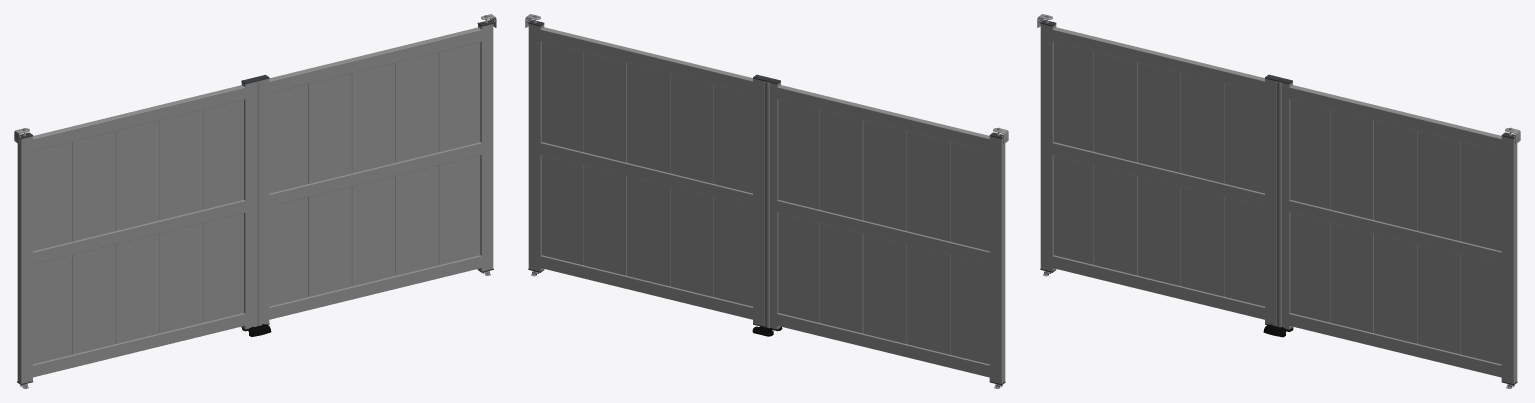
3 renders of one model, left to right at view 1: azimuth 30°, elevation 25°; view 2: azimuth 150°, elevation 25°; view 3: azimuth 330°, elevation 25°, orthographic.
Visible parts, largest first — view 1: Line030, Line025, Line028, Line023, Line029, Line024, Line031, Line026, Line027, Line022, Shape107412643, Shape107412740 (+9 smaller); view 2: Line023, Line025, Line028, Line029, Line030, Line024, Line031, Line026, Line022, Line027, Shape107412643, Shape107412740 (+9 smaller); view 3: Line023, Line025, Line030, Line028, Line029, Line024, Line022, Line027, Line031, Line026, Shape107412740, Shape107412643 (+9 smaller).
Boxes of the visible parts, x1,y1,x2,y2 form: Line030: (395, 52, 438, 275); Line025: (159, 110, 202, 333); Line028: (308, 73, 351, 296); Line023: (72, 131, 115, 354); Line029: (352, 63, 395, 286); Line024: (116, 120, 159, 343); Line031: (439, 42, 480, 264); Line026: (203, 100, 243, 322); Line027: (269, 84, 308, 306); Line022: (33, 142, 72, 364); Shape107412643: (17, 136, 32, 383); Shape107412740: (478, 24, 493, 271); Line023: (906, 131, 950, 354); Line025: (819, 110, 863, 333); Line028: (670, 73, 713, 296); Line029: (627, 62, 670, 286); Line030: (583, 52, 626, 275); Line024: (863, 120, 906, 343); Line031: (541, 42, 583, 264); Line026: (778, 99, 819, 322); Line022: (950, 141, 989, 364); Line027: (714, 84, 752, 306); Shape107412643: (989, 136, 1005, 383); Shape107412740: (528, 24, 544, 271); Line023: (1094, 52, 1138, 275); Line025: (1181, 73, 1225, 296); Line030: (1418, 131, 1461, 354); Line028: (1331, 109, 1374, 333); Line029: (1374, 120, 1417, 343); Line024: (1138, 62, 1181, 285); Line022: (1053, 42, 1094, 264); Line027: (1290, 99, 1330, 322); Line031: (1461, 141, 1501, 364); Line026: (1225, 84, 1264, 306); Shape107412740: (1501, 136, 1517, 383); Shape107412643: (1040, 24, 1056, 271).
Bounding box in the file's own units: 3260 × 1696 × 146.
7 materials, 2 textured.
